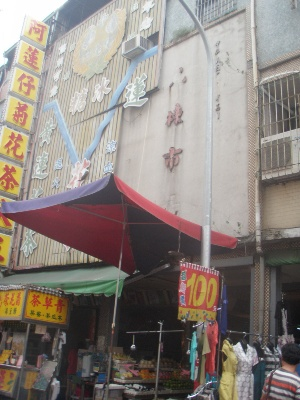plastic_bag: (1, 173, 239, 275), (1, 266, 129, 296)
